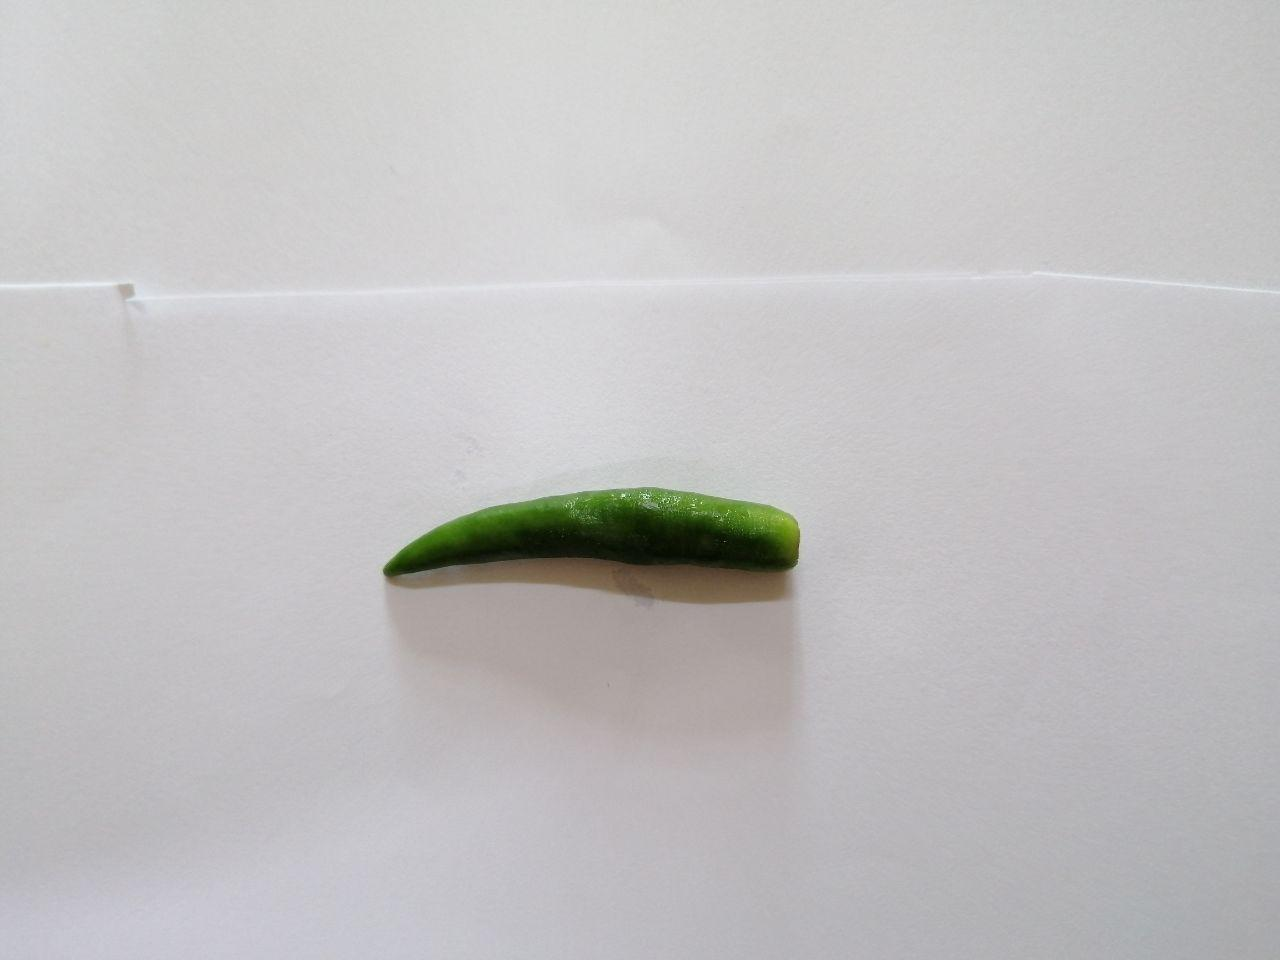lada hijau: (363, 461, 825, 615)
